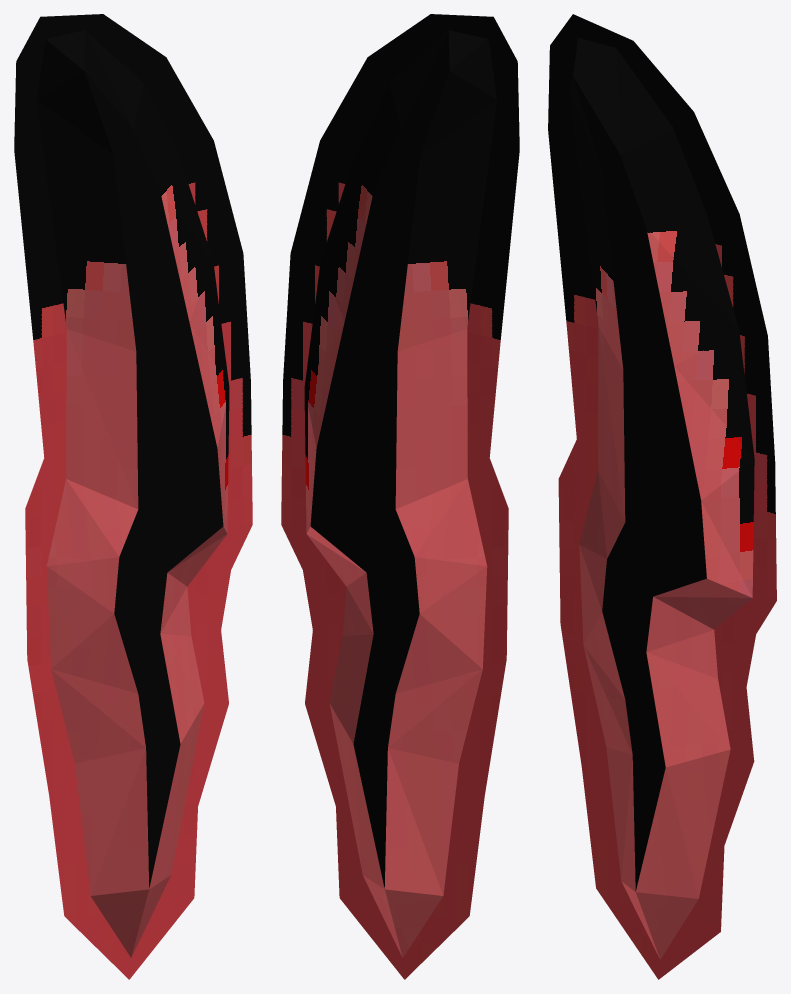
File: aggression.obj
3 renders of one model, left to right at view 1: azimuth 30°, elevation 25°; view 2: azimuth 150°, elevation 25°; view 3: azimuth 330°, elevation 25°, orthographic. The views are drawn at different scales.
Bounding box in the file's own units: 31.56 × 125 × 10.
